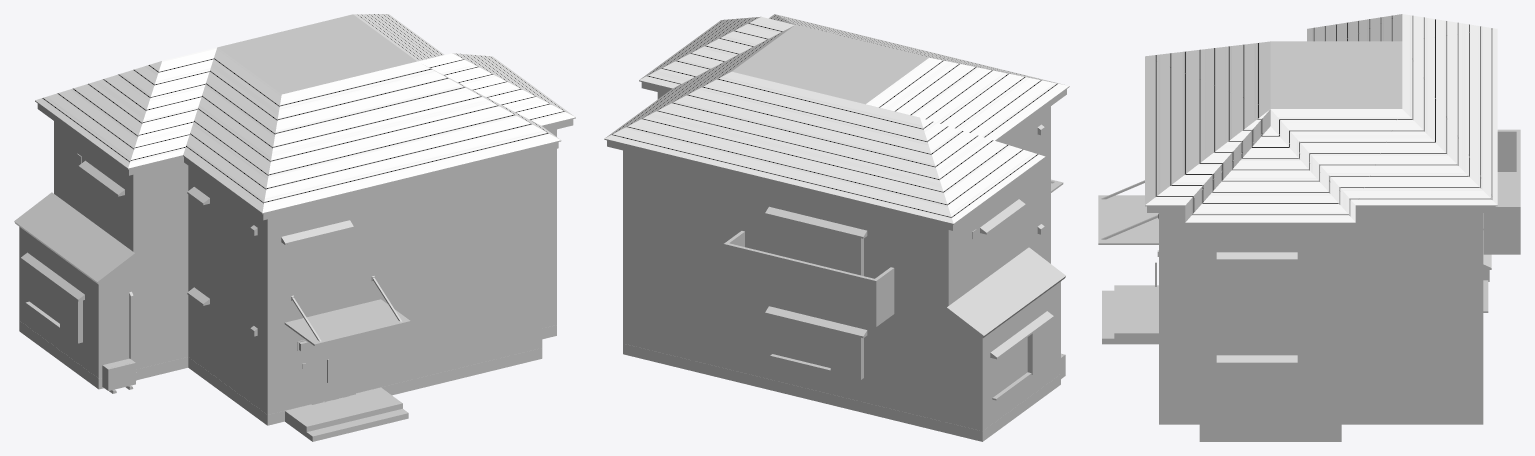
Rendered from House_2021_U.fbx.
3 renders of one model, left to right at view 1: azimuth 30°, elevation 25°; view 2: azimuth 150°, elevation 25°; view 3: azimuth 270°, elevation 25°, orthographic. The views are drawn at different scales.
Visible parts, largest first — view 1: House_2021_U; view 2: House_2021_U; view 3: House_2021_U.
Part boxes in pixels (x1,y1,x2,y2): House_2021_U: (14, 14, 575, 441); House_2021_U: (604, 14, 1069, 441); House_2021_U: (1098, 14, 1520, 441).
Bounding box in the file's own units: 1215 × 764 × 1042.
